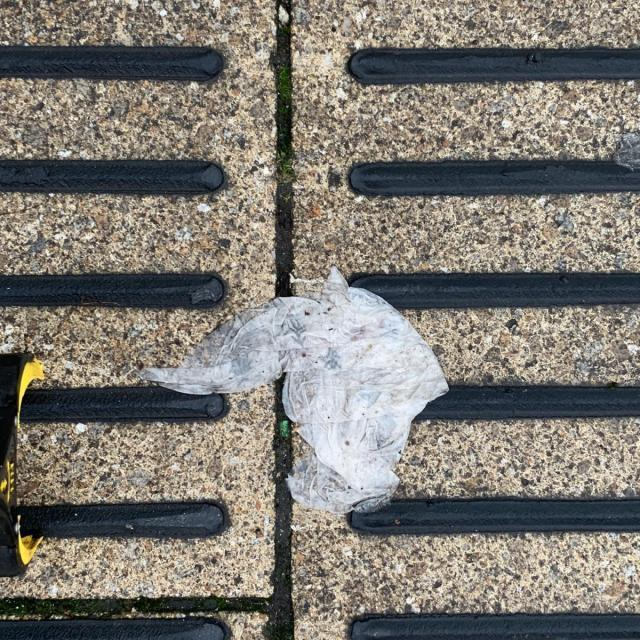Paper: (139, 264, 452, 513)
